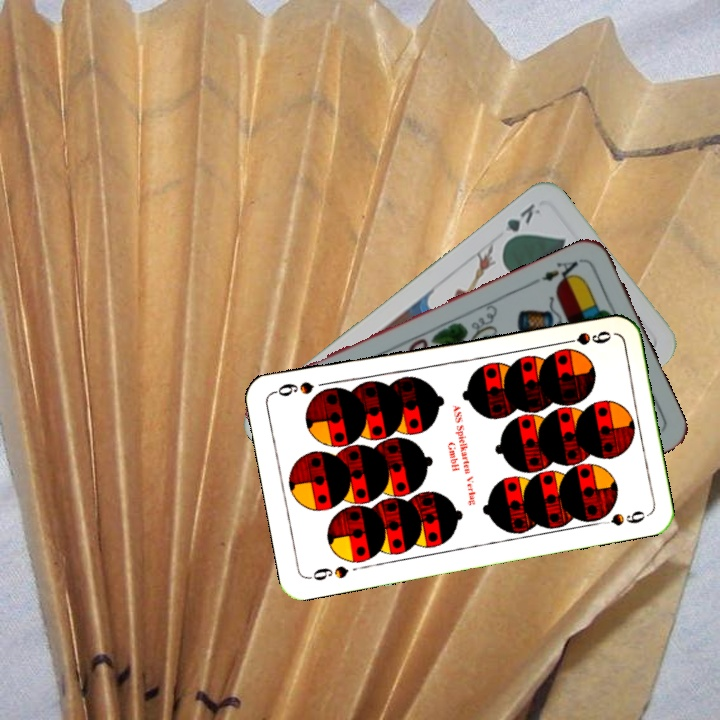EA: (537, 254, 586, 288)
GK: (499, 199, 543, 248)
S9: (555, 326, 614, 348), (304, 562, 351, 584)
